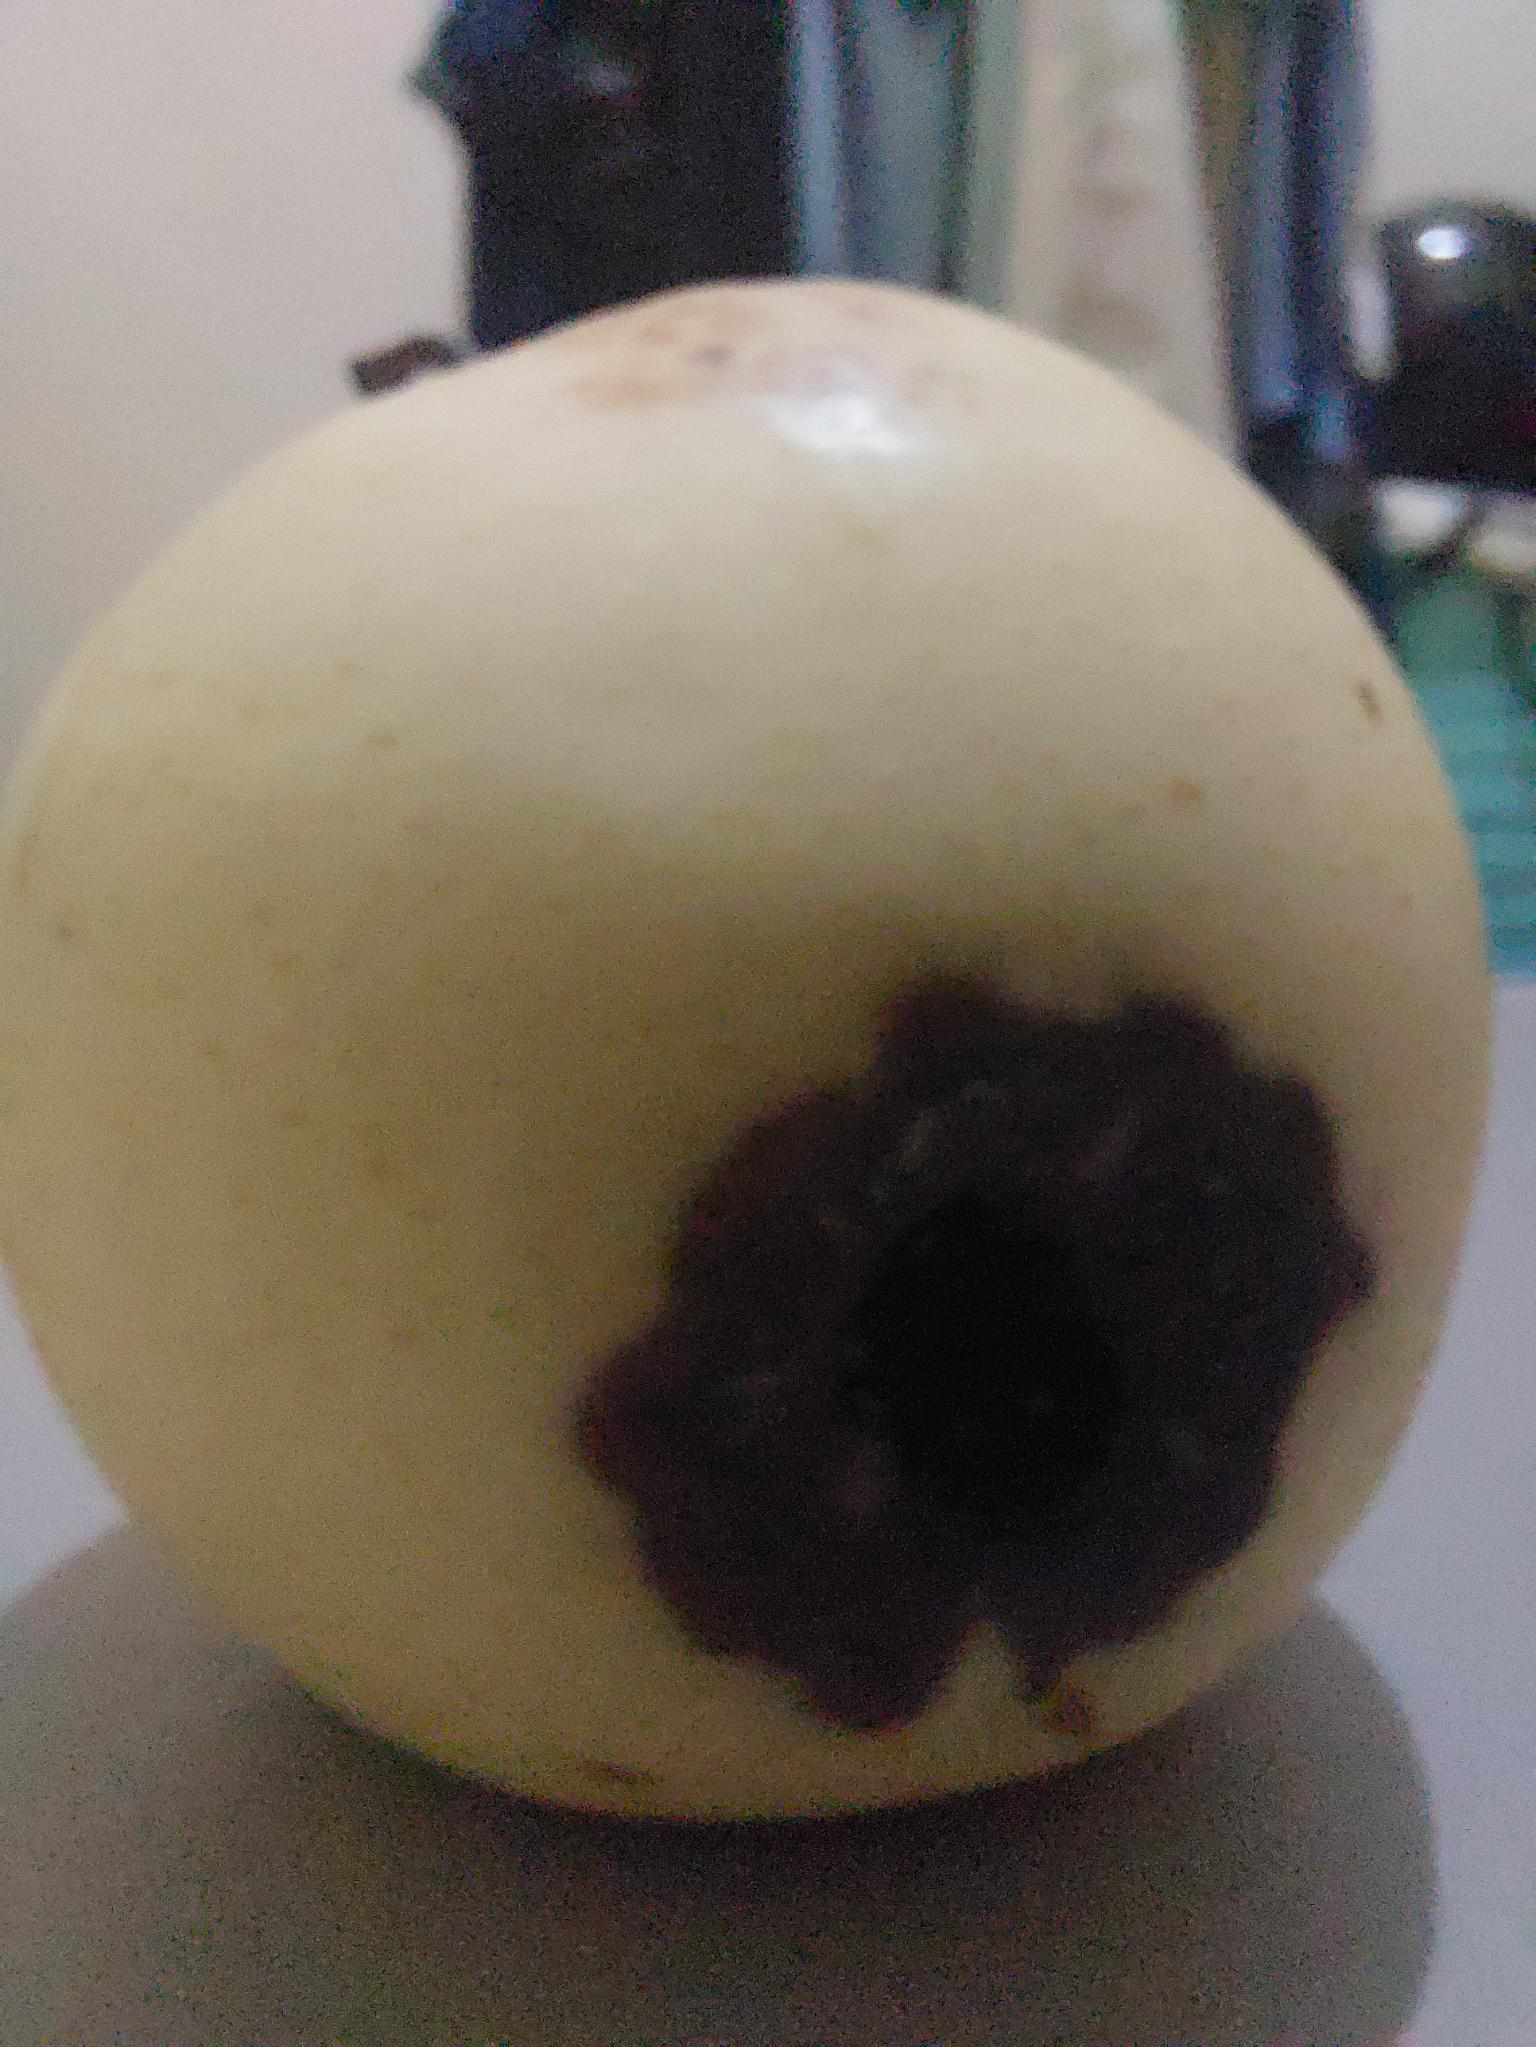Bad Pear: (3, 271, 1536, 1866)
